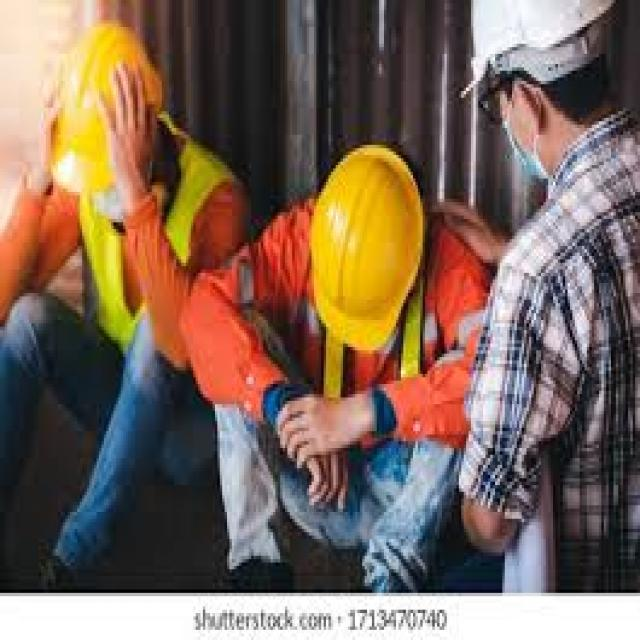reflective_jacket: (0, 180, 287, 442)
safety_helmet: (299, 132, 429, 370), (37, 17, 195, 203)
